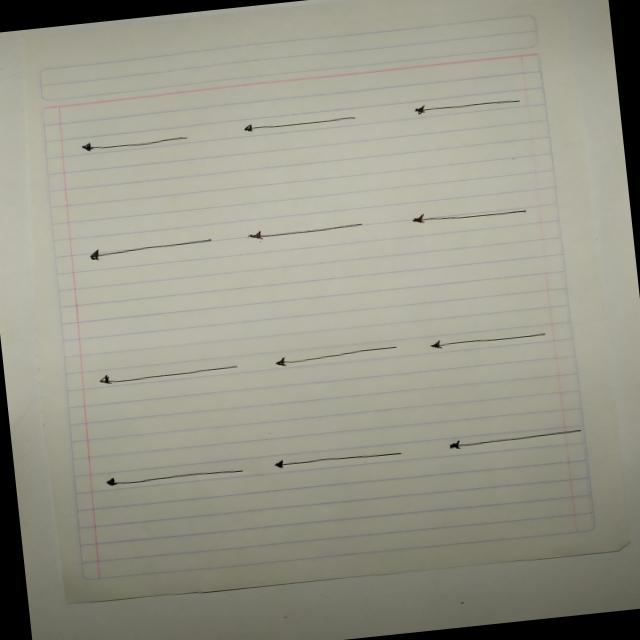arrow_line_left: (261, 335, 417, 381), (84, 352, 251, 392), (257, 437, 424, 477), (92, 456, 253, 496), (394, 194, 538, 236), (70, 121, 202, 166), (76, 226, 226, 265), (231, 107, 367, 149), (438, 421, 594, 457), (420, 322, 561, 360), (396, 85, 536, 123), (232, 214, 378, 250)
